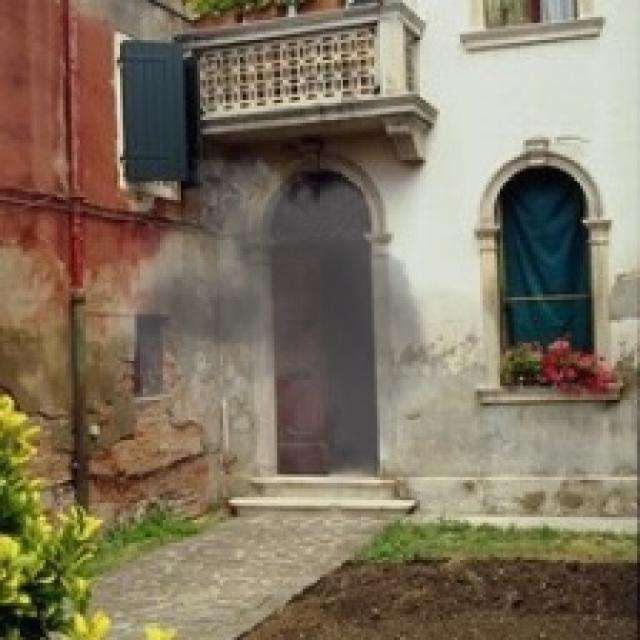Smoke: (100, 137, 466, 543)
